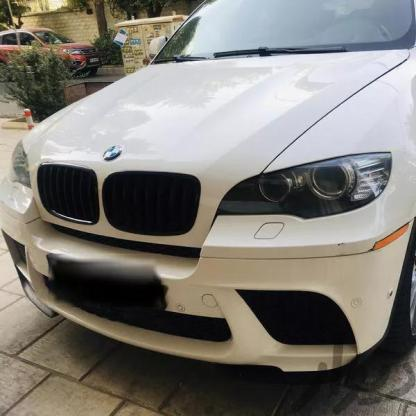Car: (0, 16, 416, 354), (0, 16, 89, 102)
